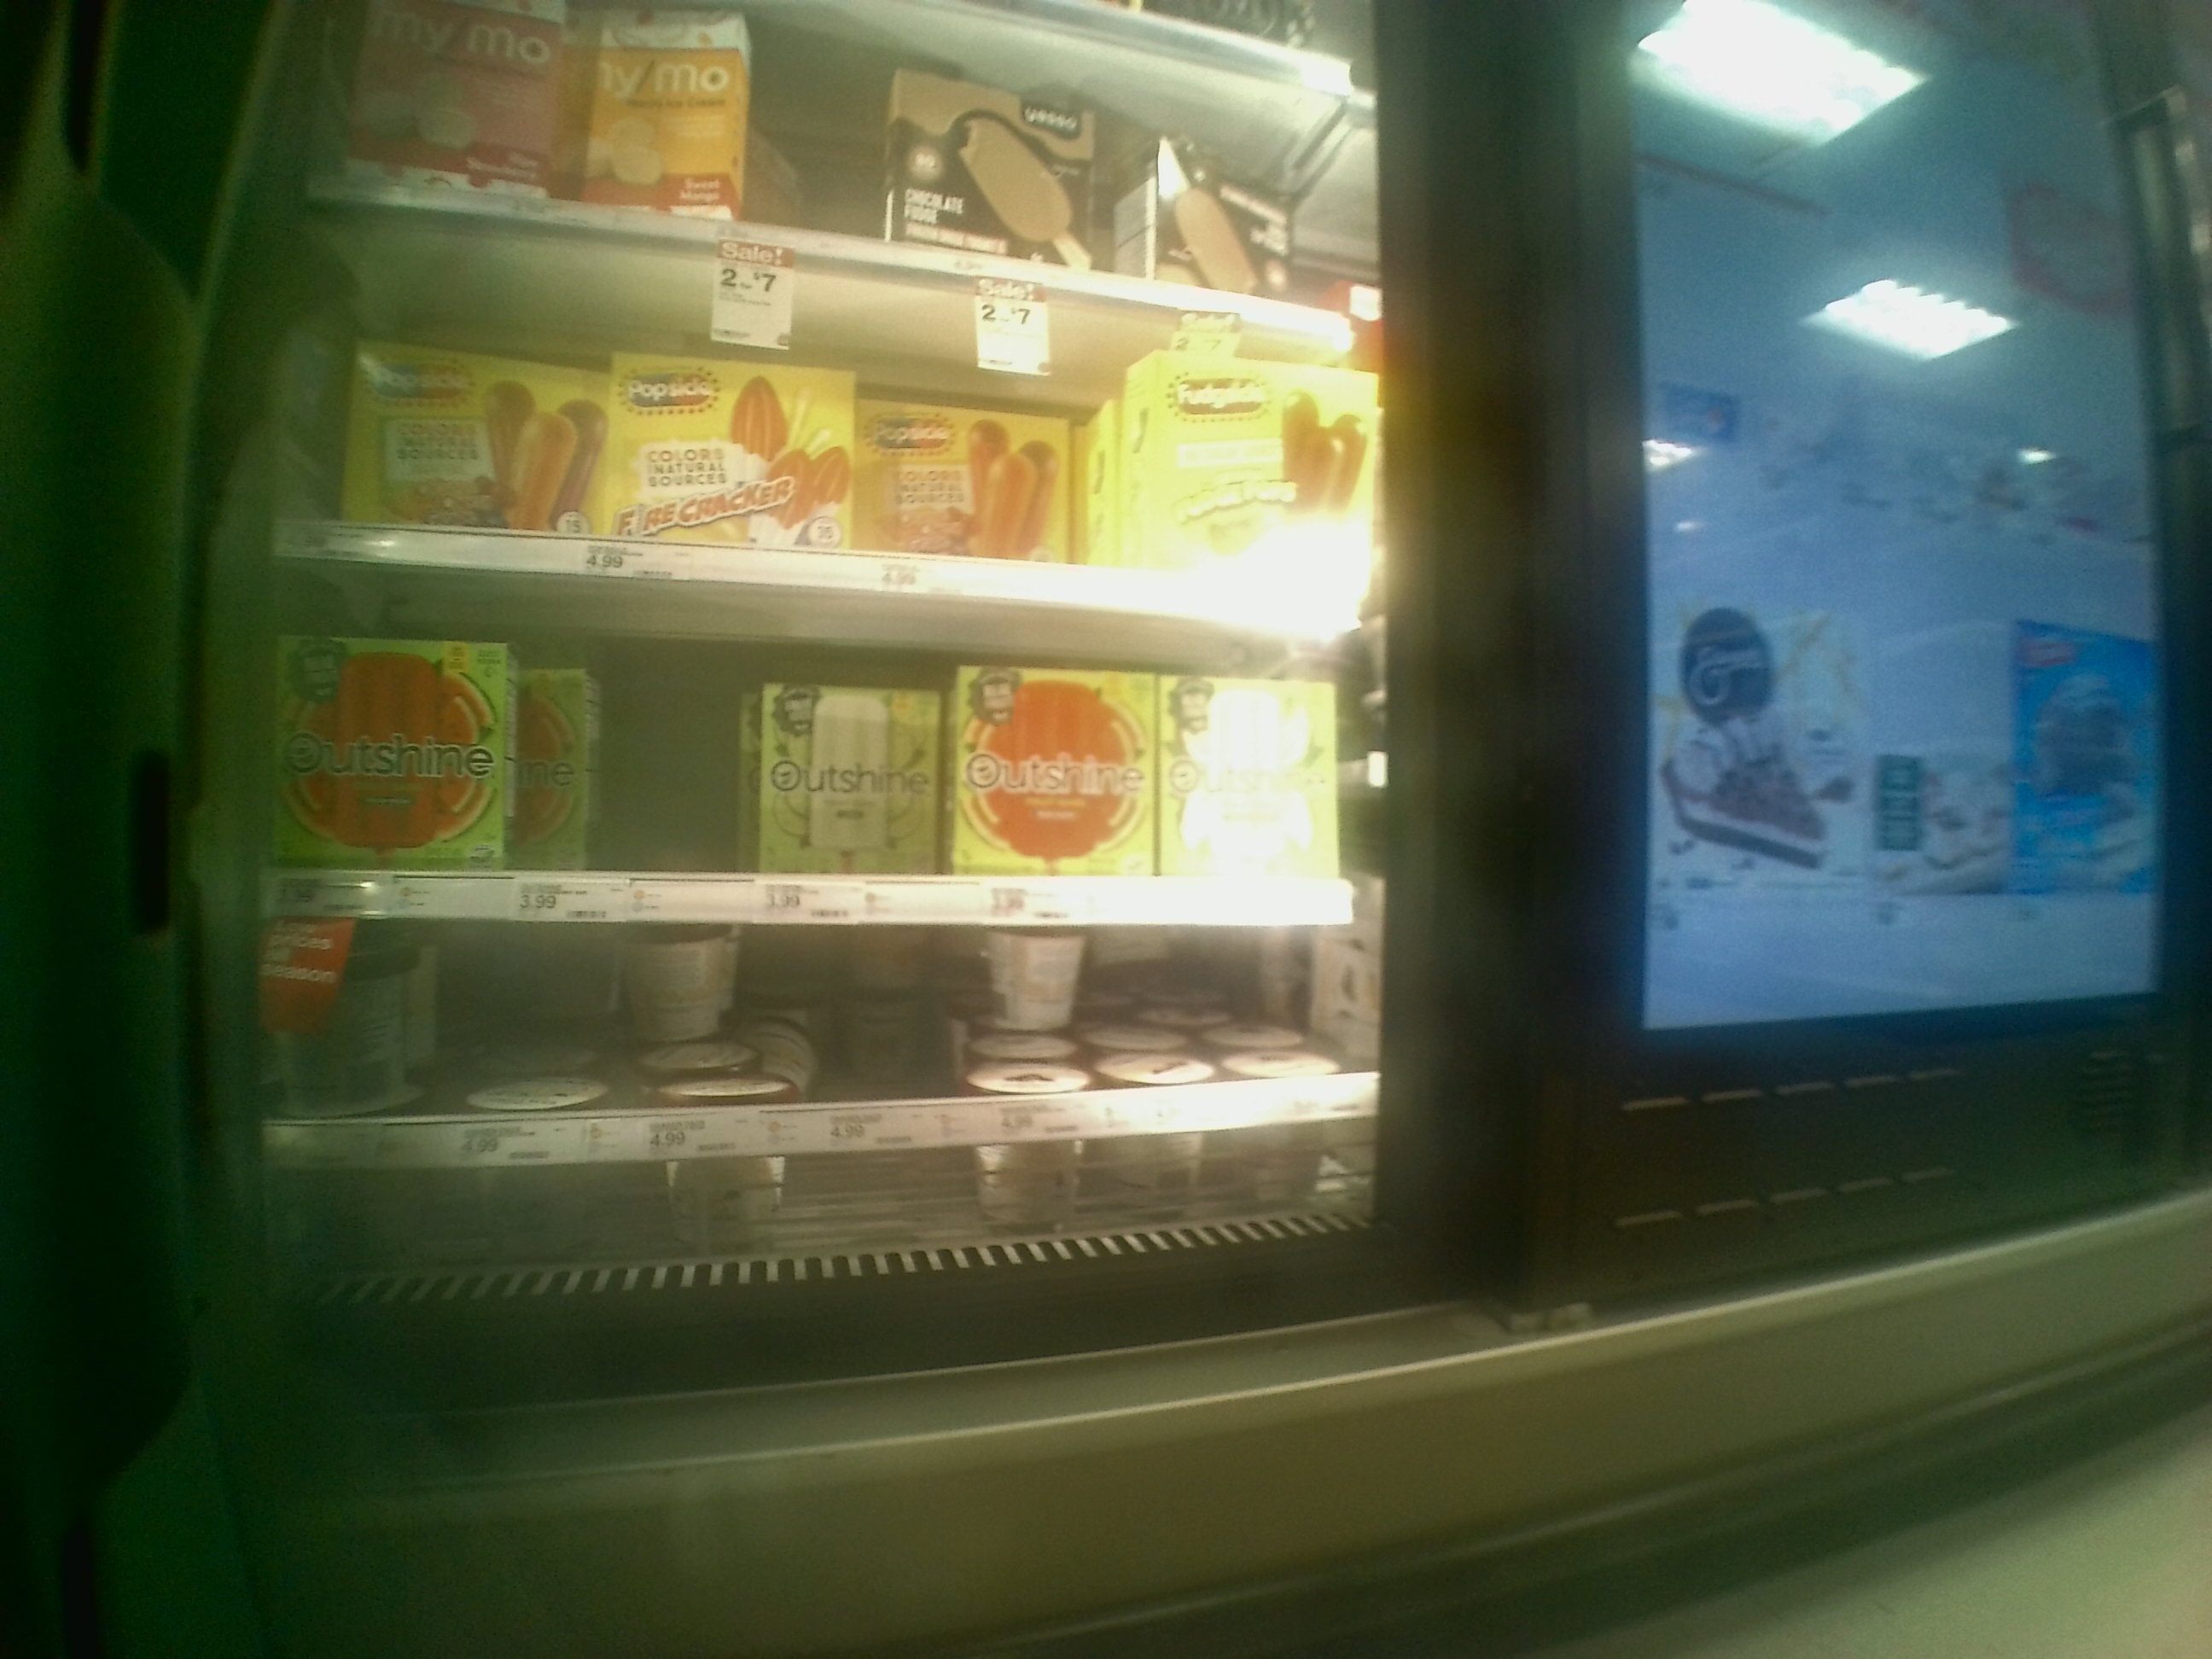shelf: (266, 917, 1379, 1262), (263, 610, 1371, 925)
